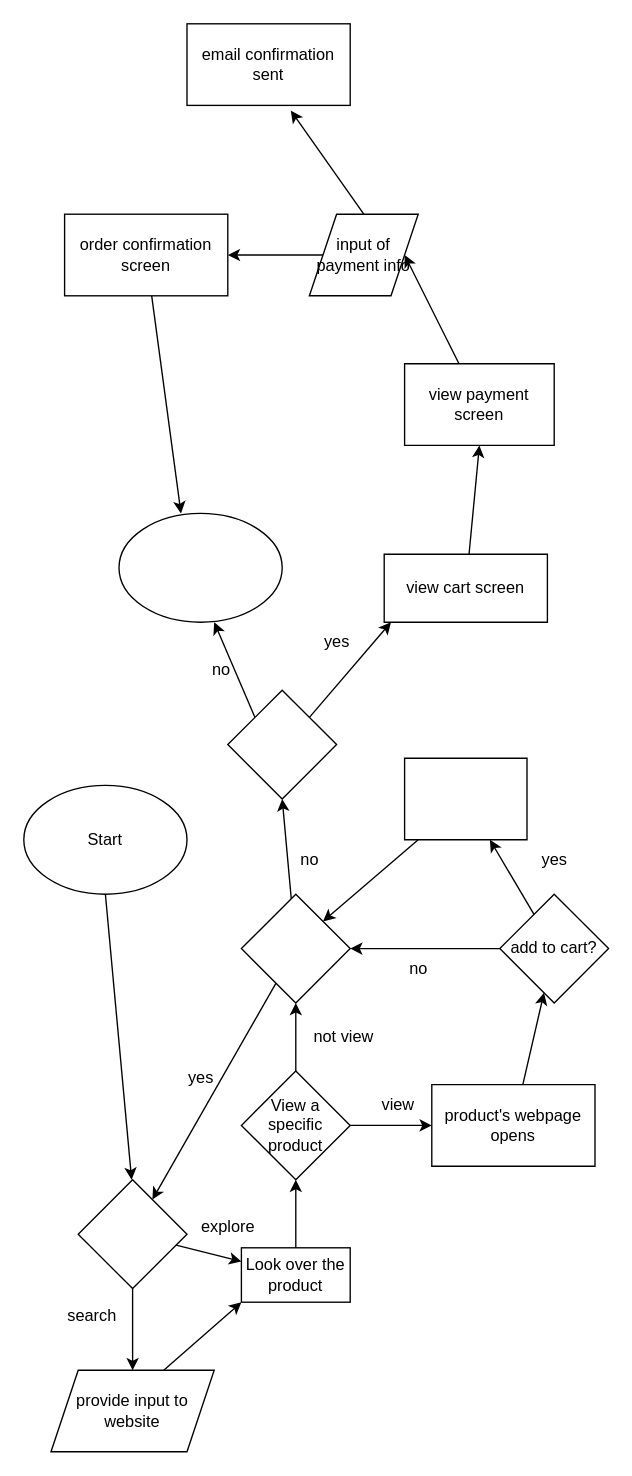
Some shapes in this 632 by 1476 pixel diagram are drawn without their labels. Each missing label, with the centre of its shape:
checkout?: the point at 281,744
continue shopping?: the point at 295,948
End (leave website): the point at 200,567
order confirmation: the point at 465,798
Search or explore: the point at 132,1233
